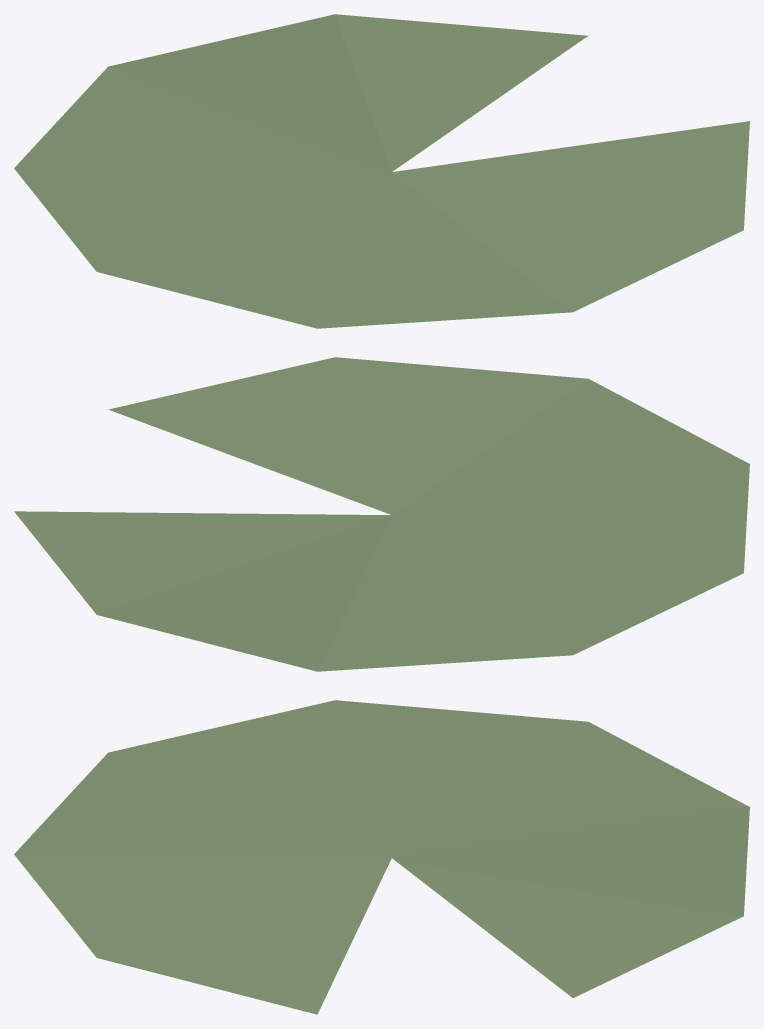
Rendered from lily.glb.
3 renders of one model, top to bottom at view 1: azimuth 30°, elevation 25°; view 2: azimuth 150°, elevation 25°; view 3: azimuth 270°, elevation 25°, orthographic.
Parts seen in each view (by area): view 1: lily; view 2: lily; view 3: lily.
Boxes of the visible parts, left/top/right/bottom form: lily: left=14, top=14, right=749, bottom=328; lily: left=14, top=357, right=749, bottom=671; lily: left=14, top=700, right=749, bottom=1014.
Size of the model in its own units: 0.6301 by 0 by 0.6231.
